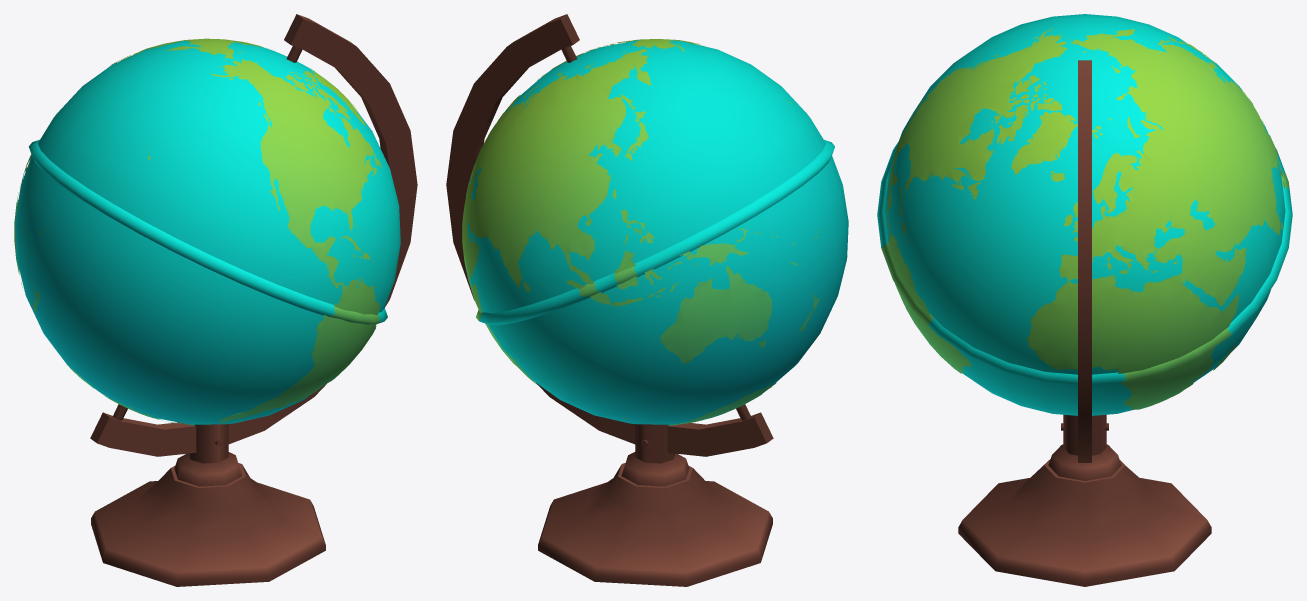
The model's file is CR_sci_Globe_001.FBX.
3 views of the same model, side by side, from view 1: azimuth 30°, elevation 25°; view 2: azimuth 150°, elevation 25°; view 3: azimuth 270°, elevation 25° (orthographic). The views are drawn at different scales.
Parts seen in each view (by area): view 1: CR_sci_Globe_001; view 2: CR_sci_Globe_001; view 3: CR_sci_Globe_001.
Boxes of the visible parts, x1,y1,x2,y2 form: CR_sci_Globe_001: [14, 14, 417, 586]; CR_sci_Globe_001: [446, 14, 848, 586]; CR_sci_Globe_001: [877, 14, 1292, 586].
Bounding box in the file's own units: 42.68 × 54.48 × 39.49.
